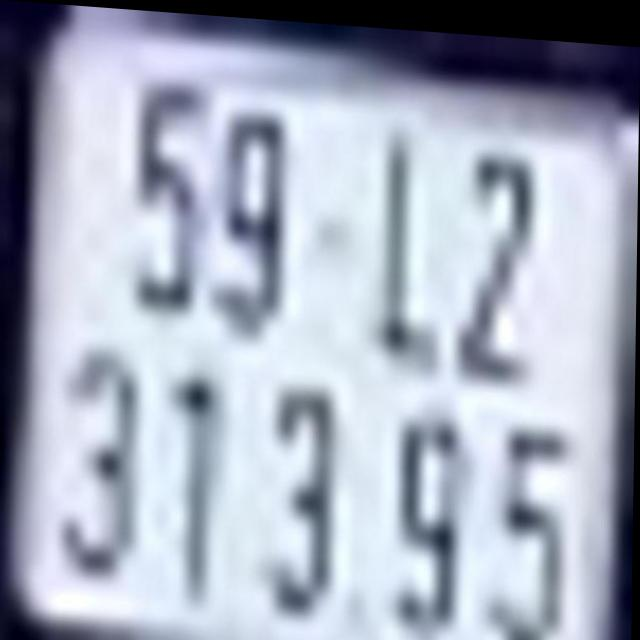1: (162, 367, 214, 601)
2: (464, 150, 541, 376)
3: (61, 343, 140, 575), (265, 378, 339, 612)
5: (494, 416, 566, 640), (137, 83, 204, 316)
9: (393, 408, 464, 628), (218, 110, 284, 330)
L: (383, 131, 446, 366)
